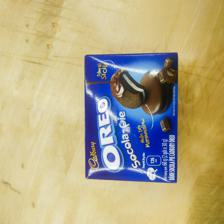Oreo: (80, 51, 180, 182)
